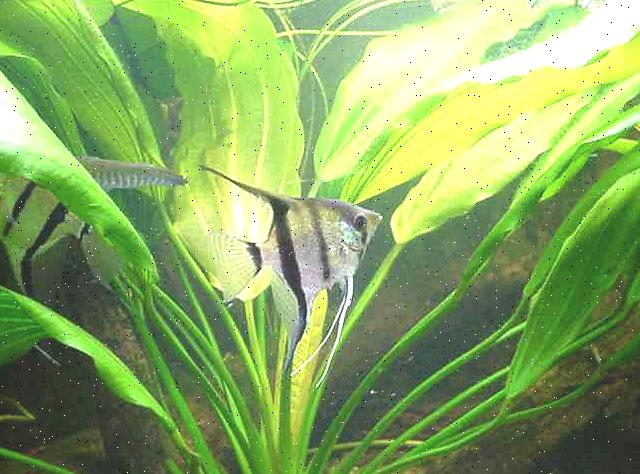Mulut: (358, 200, 404, 244)
Sirip Anal: (266, 266, 316, 388)
Sirip Dada: (300, 235, 358, 273)
Sirip Ekor: (198, 224, 264, 318)
Sirip Perut: (292, 274, 372, 390)
Sirip Punggung: (192, 142, 304, 237)
